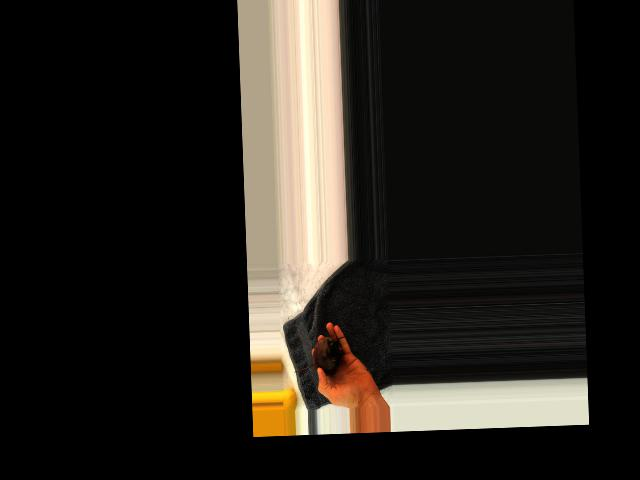beet: (293, 336, 344, 376)
